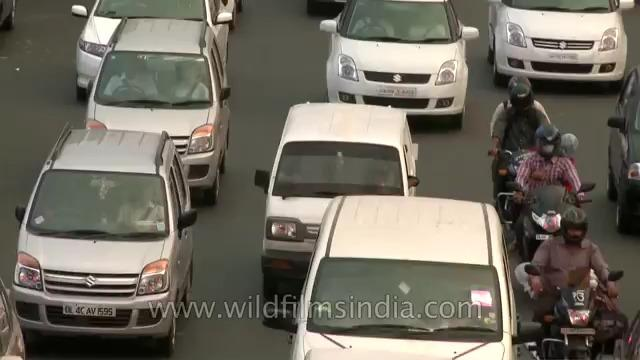Bike: (527, 201, 635, 360), (487, 68, 561, 189), (513, 125, 590, 241)
Car: (8, 118, 195, 354), (290, 193, 523, 360), (258, 91, 423, 306), (91, 11, 235, 207), (323, 0, 475, 124), (481, 0, 640, 91)
